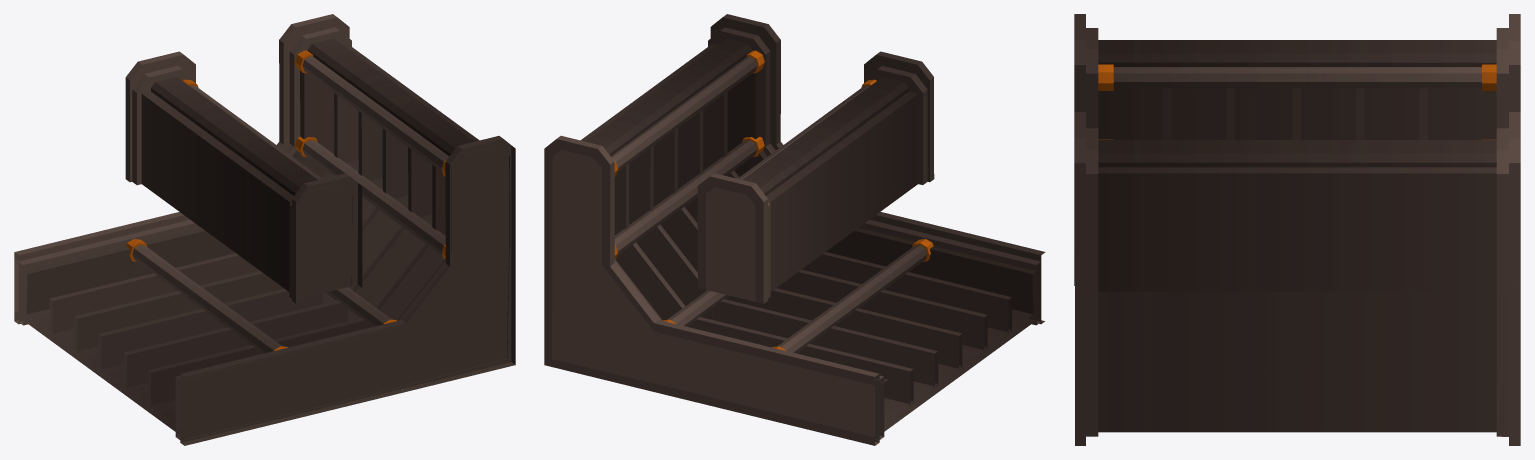
Rendered from Bookshelf 02.FBX.
3 views of the same model, side by side, from view 1: azimuth 30°, elevation 25°; view 2: azimuth 150°, elevation 25°; view 3: azimuth 270°, elevation 25° (orthographic). The views are drawn at different scales.
Visible parts, largest first — view 1: Bookshelf 02 Center, Bookshelf 02 End 02, Bookshelf 02 End, Bookshelf 02 Corner; view 2: Bookshelf 02 Center, Bookshelf 02 End 02, Bookshelf 02 End, Bookshelf 02 Corner; view 3: Bookshelf 02 End, Bookshelf 02 Corner, Bookshelf 02 End 02.
Boxes of the visible parts, x1,y1,x2,y2 form: Bookshelf 02 Center: (14,212,405,445); Bookshelf 02 End 02: (125,51,362,303); Bookshelf 02 End: (279,14,515,266); Bookshelf 02 Corner: (277,136,515,391); Bookshelf 02 Center: (654,212,1045,445); Bookshelf 02 End 02: (697,51,934,303); Bookshelf 02 End: (544,14,780,266); Bookshelf 02 Corner: (544,136,782,391); Bookshelf 02 End: (1074,112,1520,295); Bookshelf 02 Corner: (1074,254,1520,445); Bookshelf 02 End 02: (1074,14,1520,139).
Size of the model in its own units: 299 by 198 by 267.
